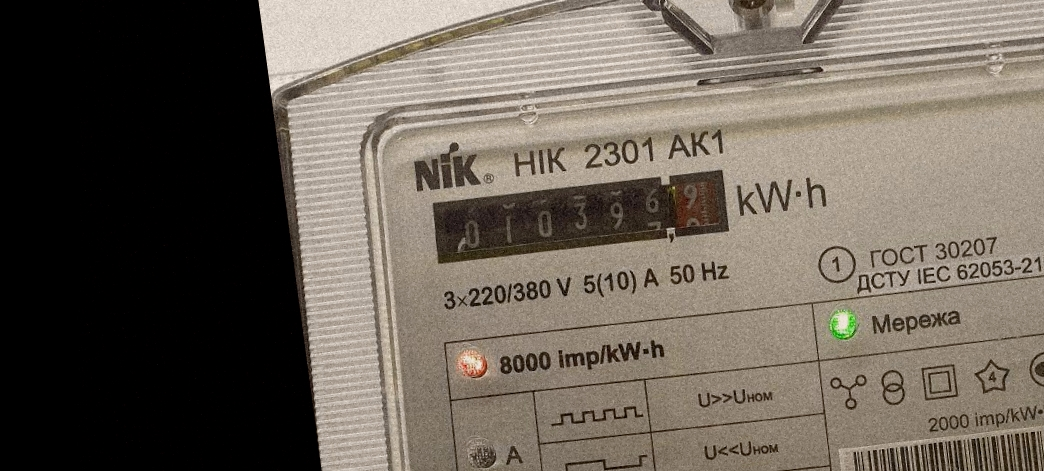0: (532, 205, 558, 240), (460, 215, 484, 250)
1: (500, 210, 518, 245)
3: (570, 198, 593, 233)
6: (640, 184, 665, 216)
9: (605, 197, 629, 233), (678, 180, 703, 213)
screen: (415, 150, 744, 285)
